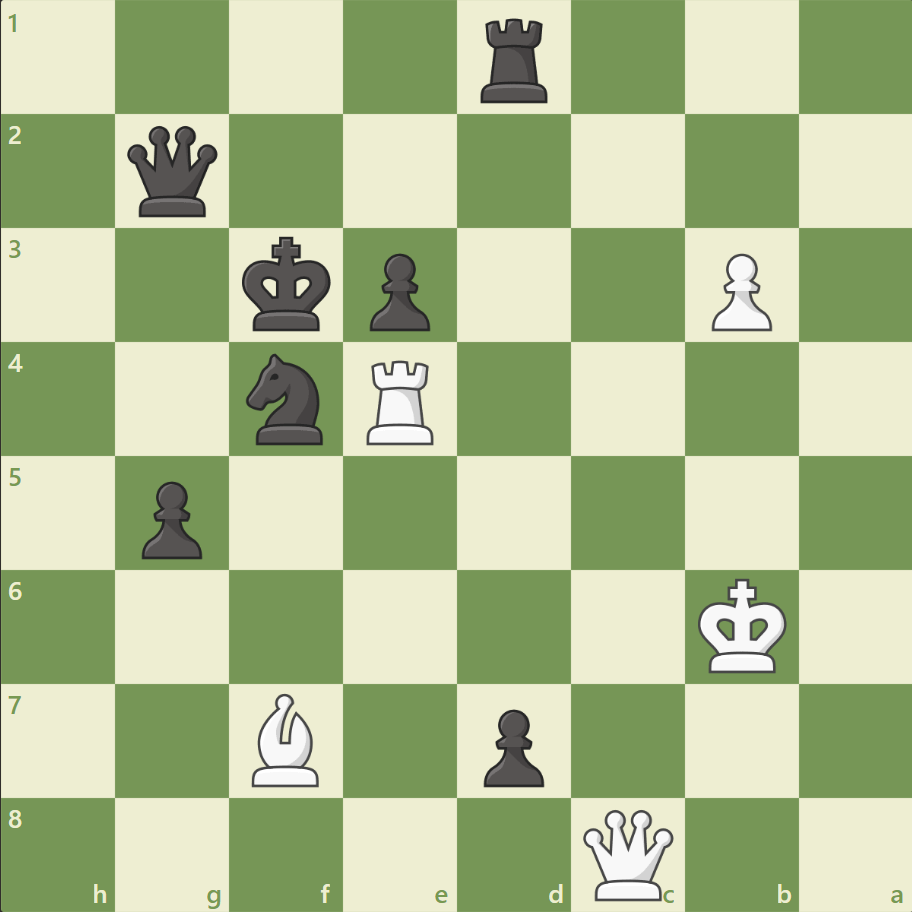B: (244, 687, 328, 790)
K: (692, 571, 792, 679)
P: (701, 246, 776, 337)
Q: (578, 804, 677, 903)
R: (360, 352, 442, 449)
k: (238, 231, 338, 339)
n: (238, 348, 335, 450)
p: (474, 700, 549, 791), (133, 473, 208, 564), (361, 246, 435, 337)
q: (124, 122, 223, 222)
r: (473, 12, 556, 109)
